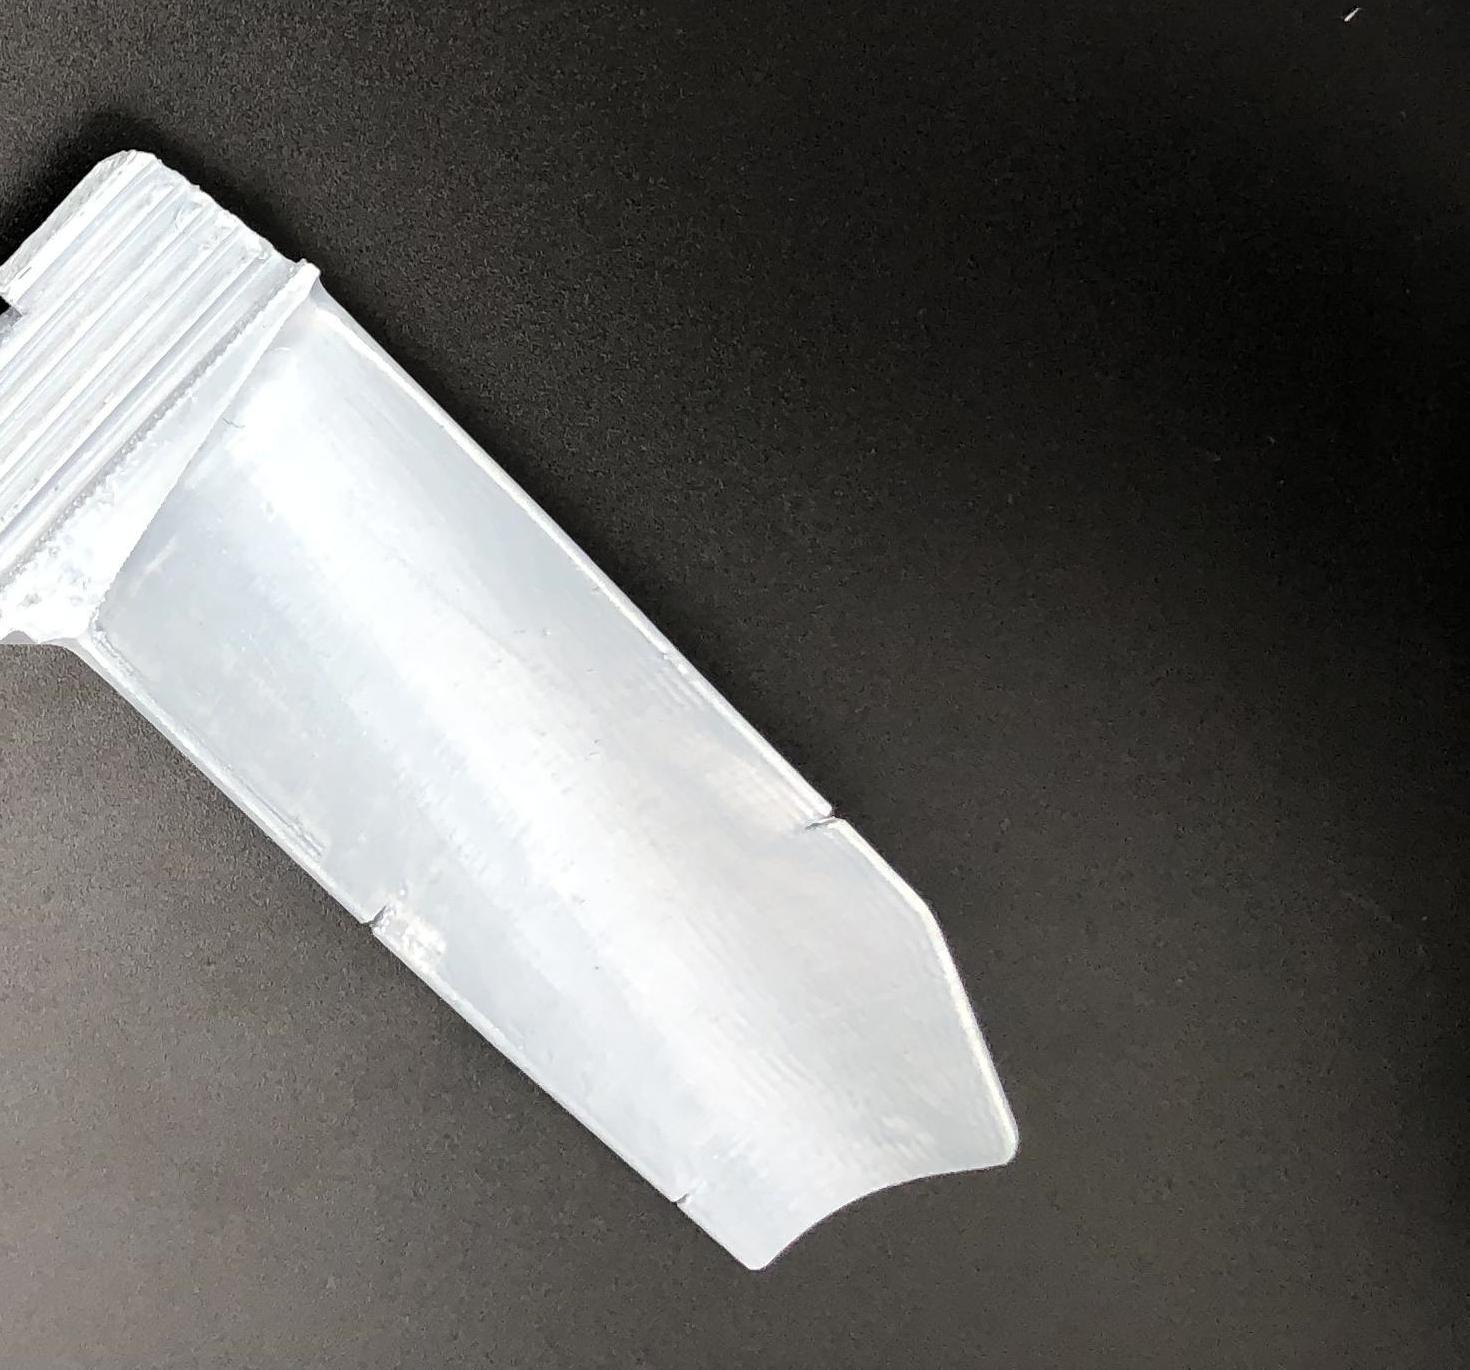groove: (794, 794, 856, 845), (357, 896, 403, 943), (659, 1185, 702, 1214)
